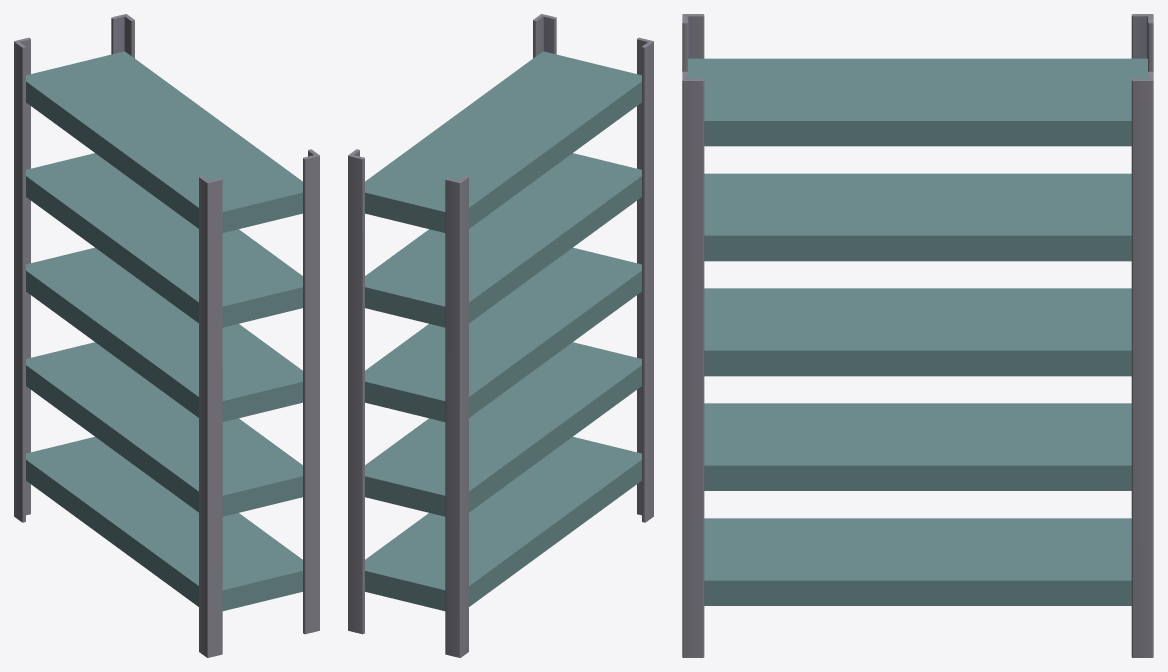
Rendered from simready-storage_shelf_basic_b01.glb.
3 renders of one model, left to right at view 1: azimuth 30°, elevation 25°; view 2: azimuth 150°, elevation 25°; view 3: azimuth 270°, elevation 25°, orthographic. The views are drawn at different scales.
Visible parts, largest first — view 1: tray.004, tray.003, tray.001, tray, tray.002, angle, angle.001, angle.002, angle.003; view 2: tray.004, tray.003, tray.001, tray, tray.002, angle.002, angle.003, angle, angle.001; view 3: tray.004, tray.003, tray.002, tray.001, tray, angle.001, angle.003, angle, angle.002.
Part boxes in pixels (x1,y1,x2,y2): tray.004: (26,51,302,232); tray.003: (26,153,302,327); tray.001: (26,342,302,516); tray: (26,437,302,611); tray.002: (26,247,302,421); angle: (199,176,222,657); angle.001: (303,149,319,634); angle.002: (14,37,30,522); angle.003: (111,14,134,58); tray.004: (365,51,641,232); tray.003: (365,153,641,327); tray.001: (365,342,641,516); tray: (365,437,641,611); tray.002: (365,247,641,421); angle.002: (445,176,468,657); angle.003: (348,149,364,634); angle: (637,37,653,522); angle.001: (533,14,556,58); tray.004: (688,58,1147,146); tray.003: (704,173,1131,261); tray.002: (704,288,1131,376); tray.001: (704,403,1131,490); tray: (704,518,1131,605); angle.001: (682,71,704,657); angle.003: (1131,71,1153,657); angle: (682,14,704,71); angle.002: (1131,14,1153,71).
Size of the model in its own units: 0.506 by 2.03 by 1.51.
